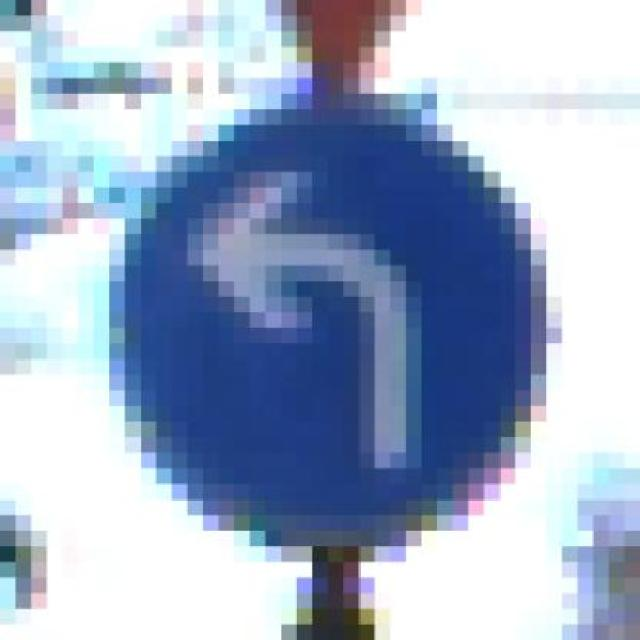Turn left ahead: (109, 94, 562, 546)
